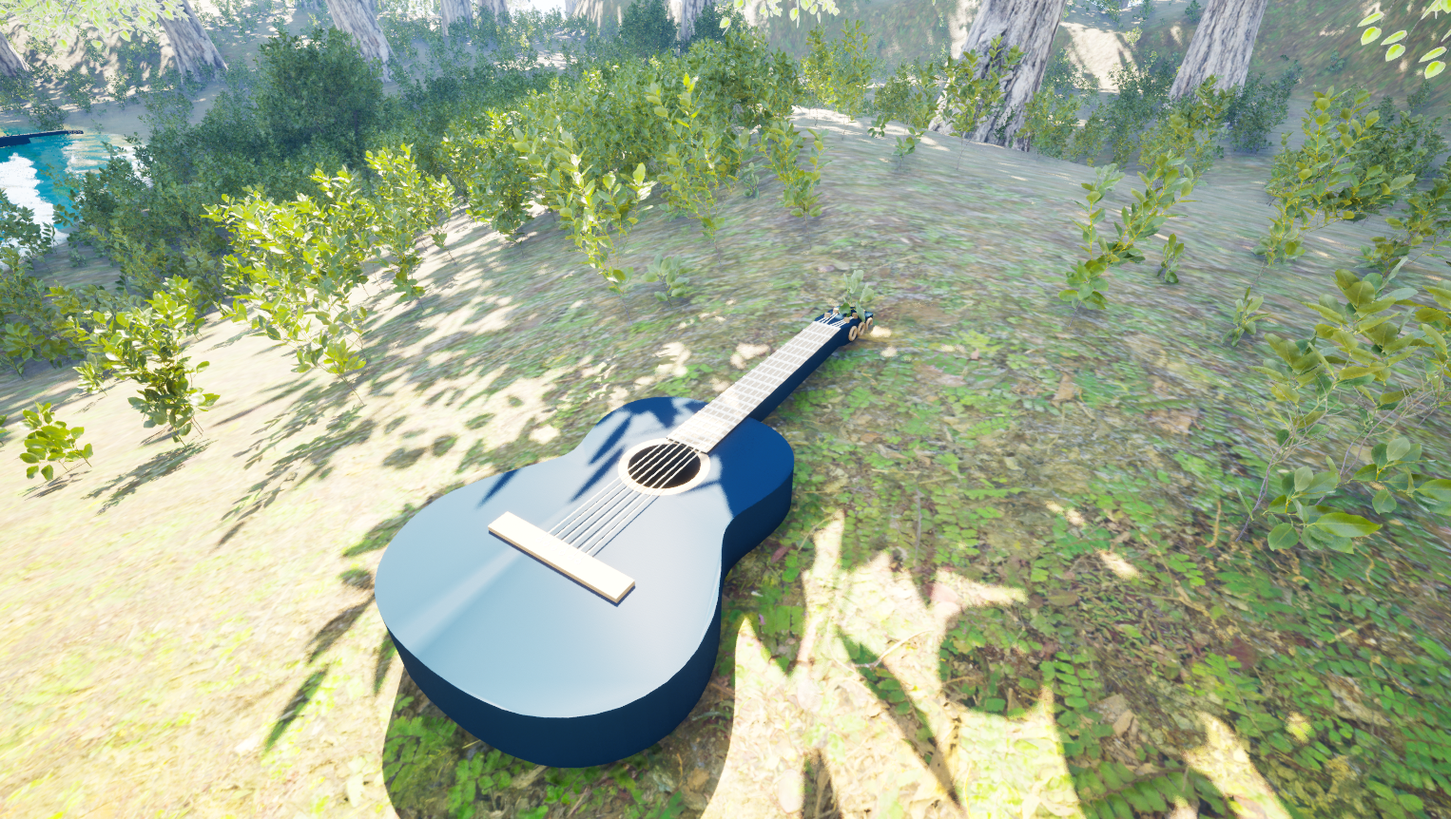Guitar: (311, 276, 953, 819)
